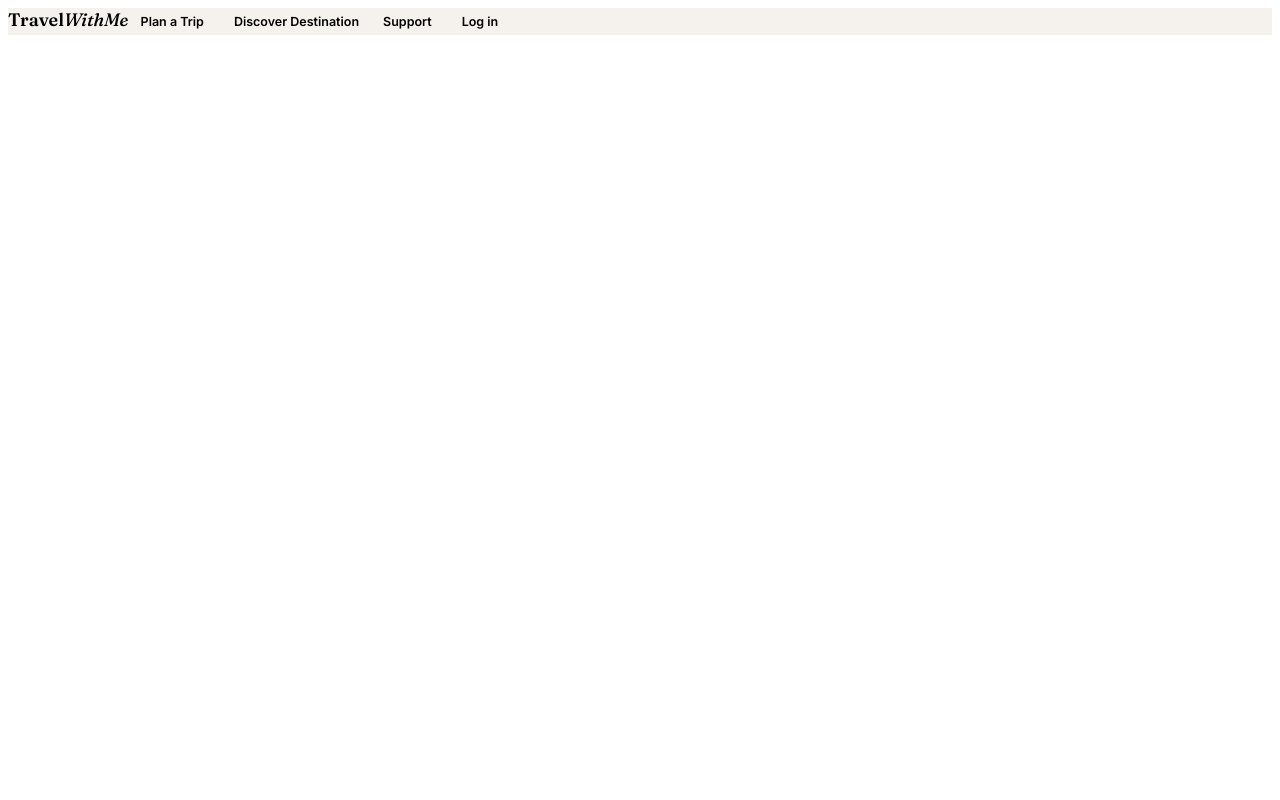
Scenario: Header › explicit Header Log in opens the login overlay directly, since it is deliberate traveler intent
The width and height of the screenshot is (1280, 800).
Click the text "Log in": (480, 22) x1=462 y1=14 x2=498 y2=29
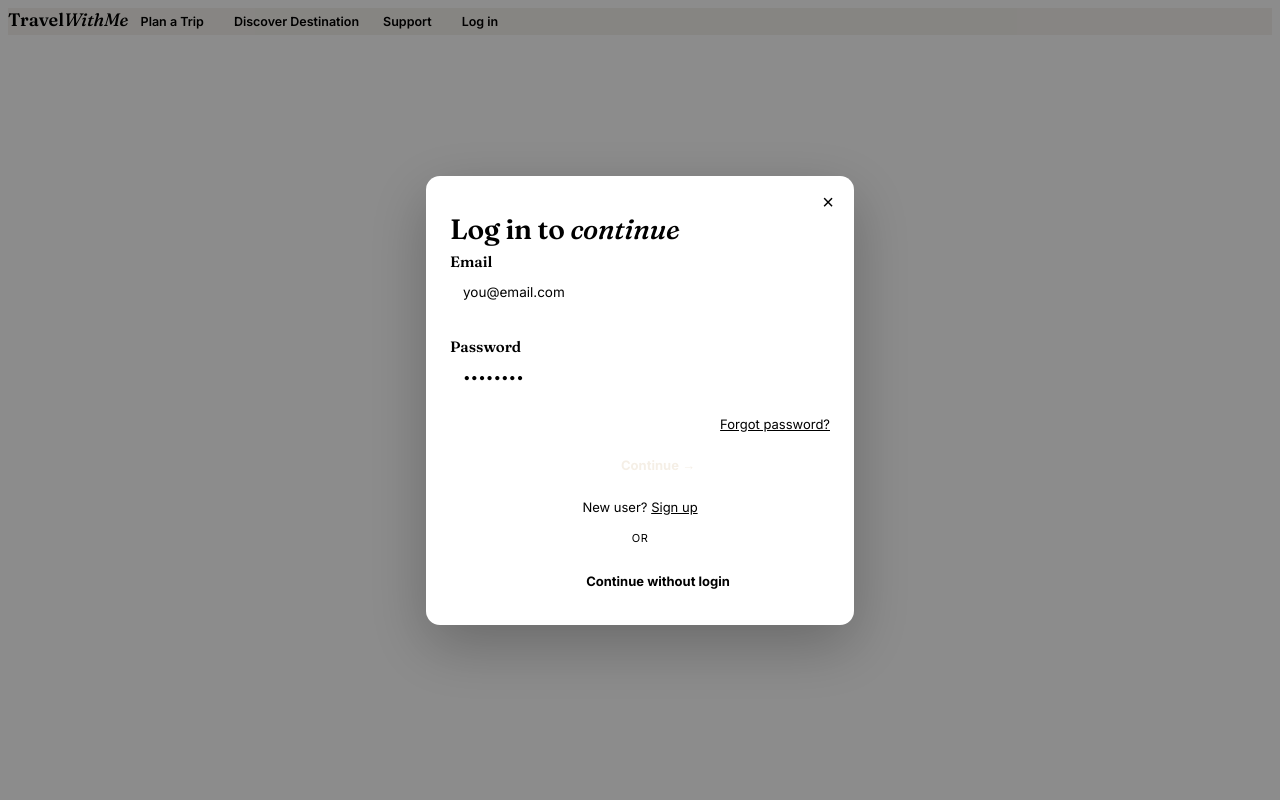
Expected: the heading "Log in to continue" is shown, x1=450 y1=212 x2=680 y2=246
